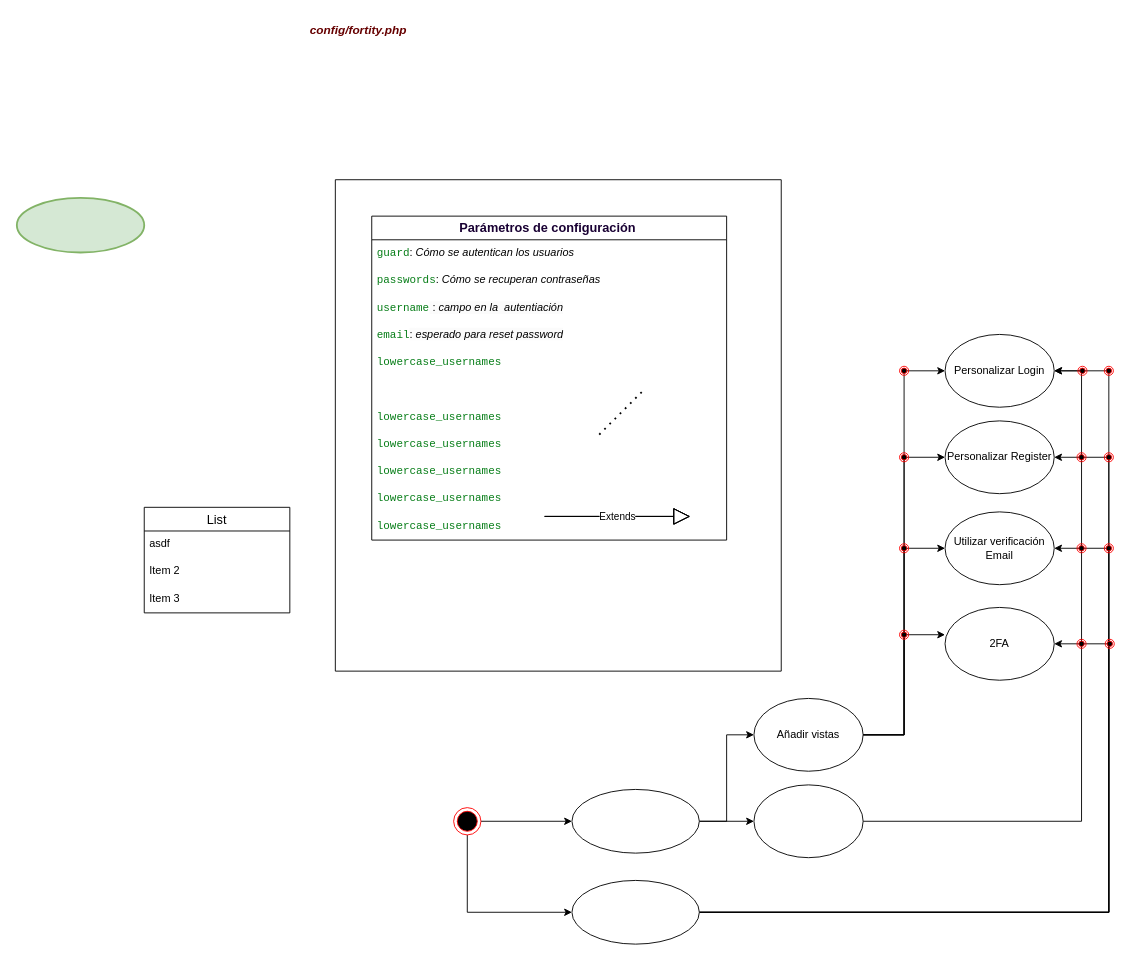
This 1132x960 diagram has some shape labels left out. The centre of each missing label's shape, as x and y in pixels:
Instalar paquete fortify: pixel 635 821
Instalar proyecto con jetstream: pixel 635 912
install fortity: pixel 80 225
Usarlo como api: pixel 808 821
